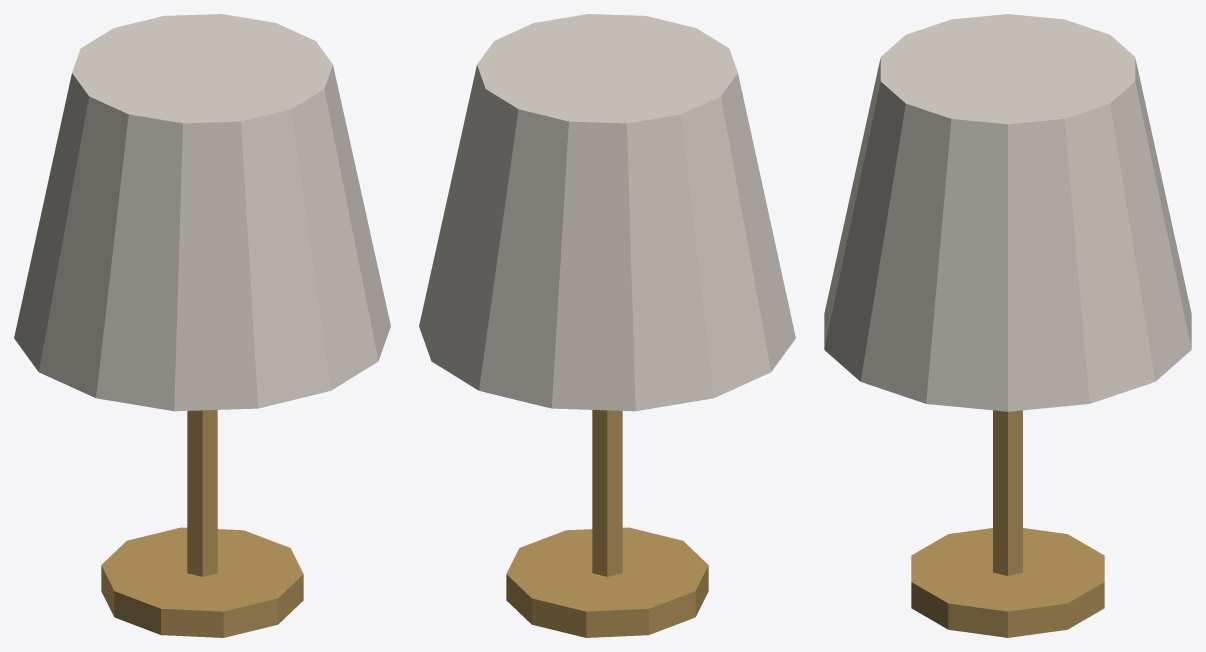
Rendered from abajur.obj.
3 views of the same model, side by side, from view 1: azimuth 30°, elevation 25°; view 2: azimuth 150°, elevation 25°; view 3: azimuth 270°, elevation 25° (orthographic).
Parts seen in each view (by area): view 1: abajur; view 2: abajur; view 3: abajur.
Boxes of the visible parts, x1,y1,x2,y2 form: abajur: (14,14,390,637); abajur: (419,14,795,637); abajur: (824,14,1191,637).
Bounding box in the file's own units: 26 × 40 × 25.34.
